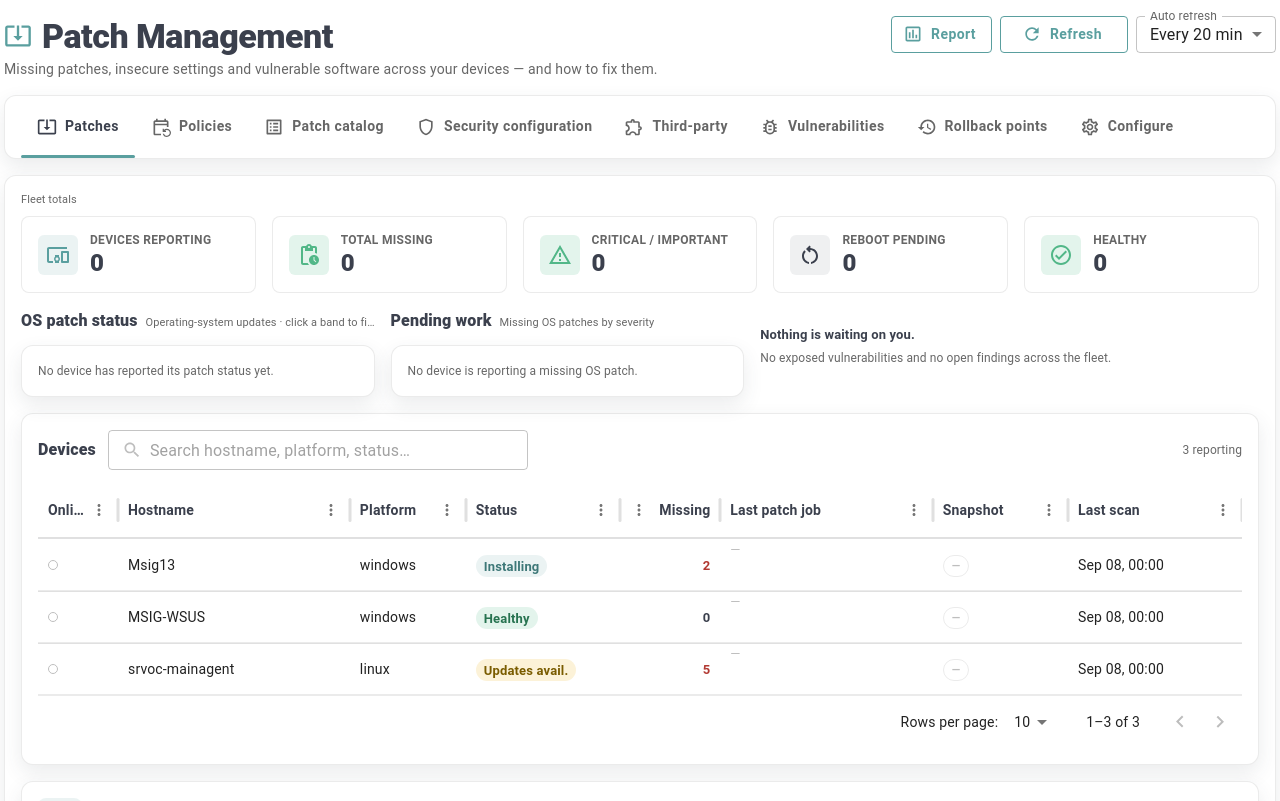
Test: Patch Management — búsqueda en la tabla de equipos › ⭐ escribir estrecha la tabla por hostname y dice cuántos quedan
Check: the text "Msig13" is shown, box x1=118 y1=539 x2=350 y2=591
Step 1. Type "msig" into the field named "Search devices" → (339, 450), box x1=150 y1=430 x2=528 y2=470
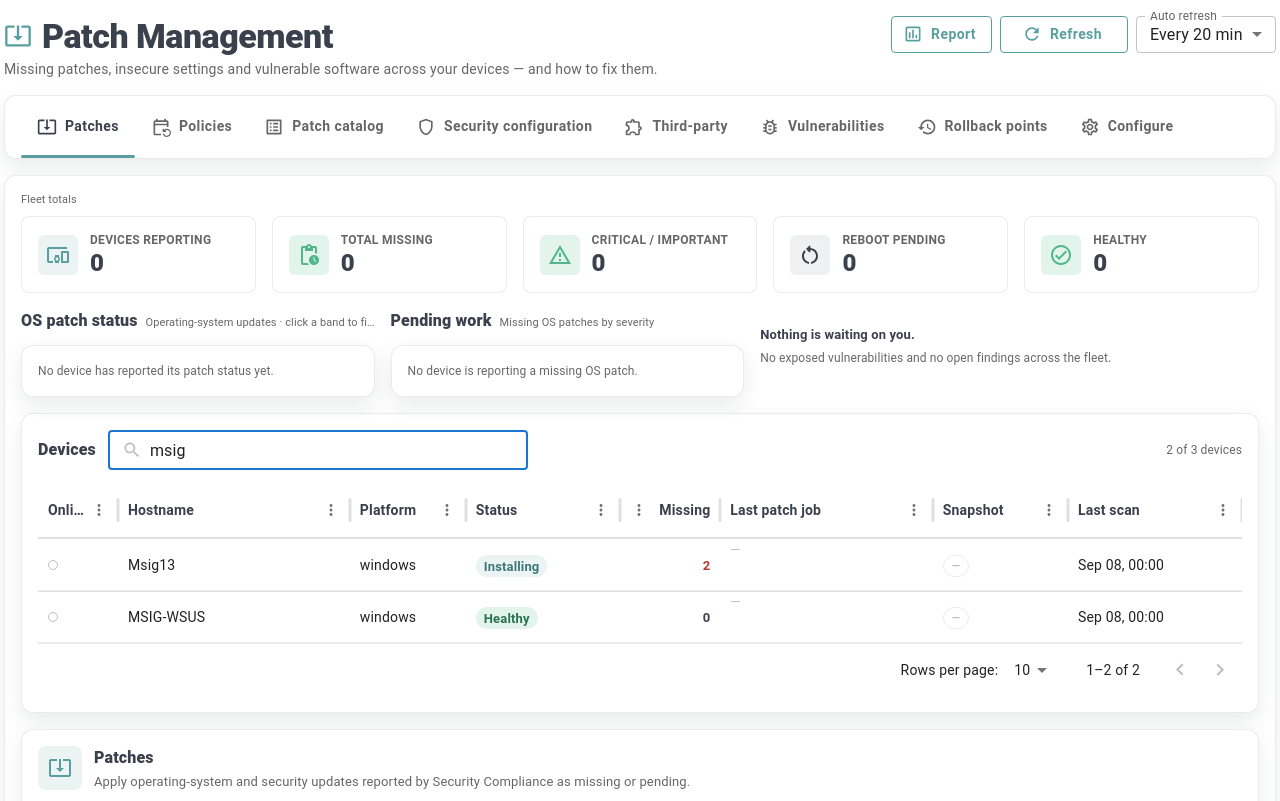
Check: the text "Msig13" is shown, box x1=118 y1=539 x2=350 y2=591
Check: the text "srvoc-mainagent" is gone
Check: the text "2 of 3 devices" is shown, box x1=1166 y1=441 x2=1242 y2=459
